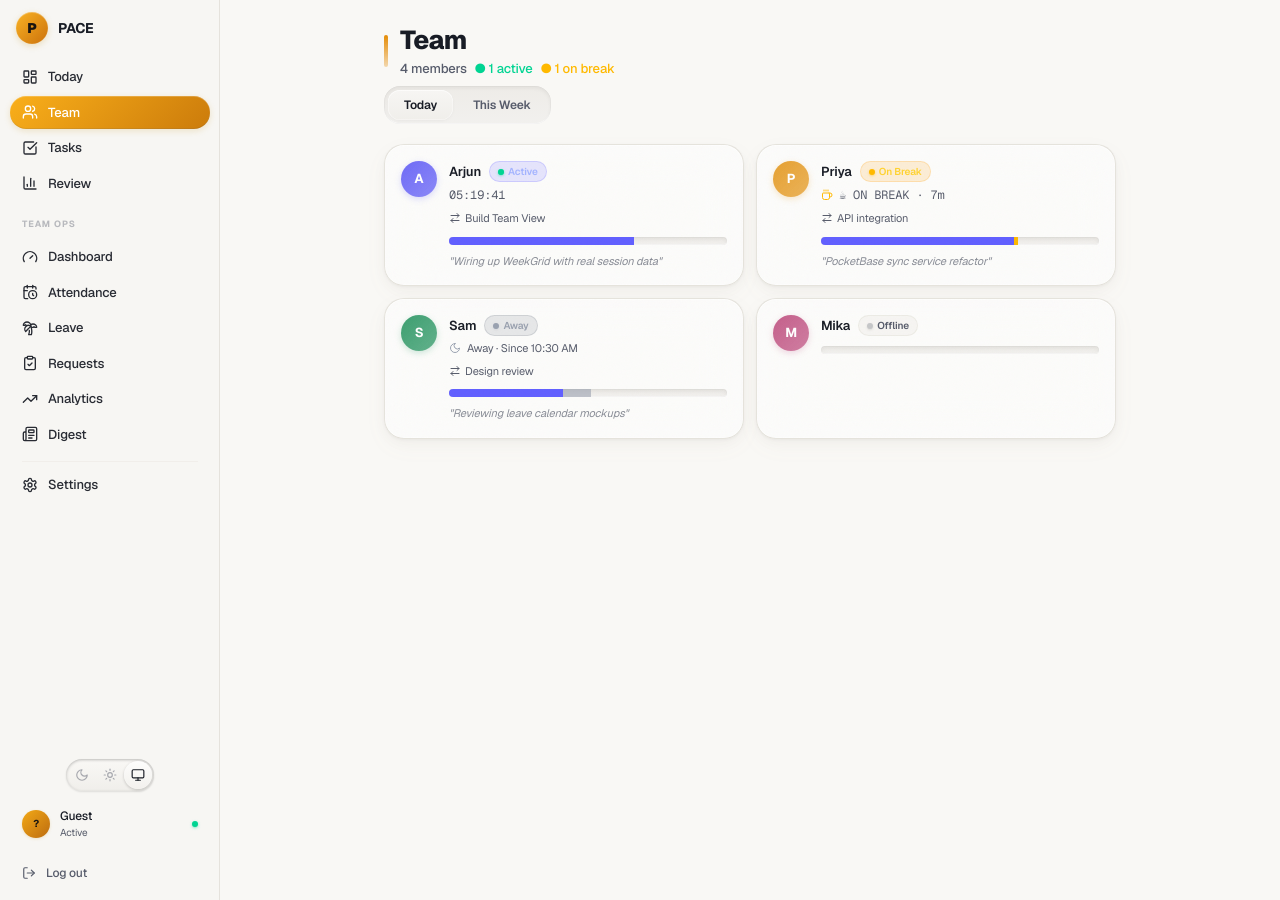
Test case: Sidebar navigation › navigates to / when Today nav item is clicked from another route
The image size is (1280, 900).
Click the link "Today": (52, 76) [22,68,83,85]
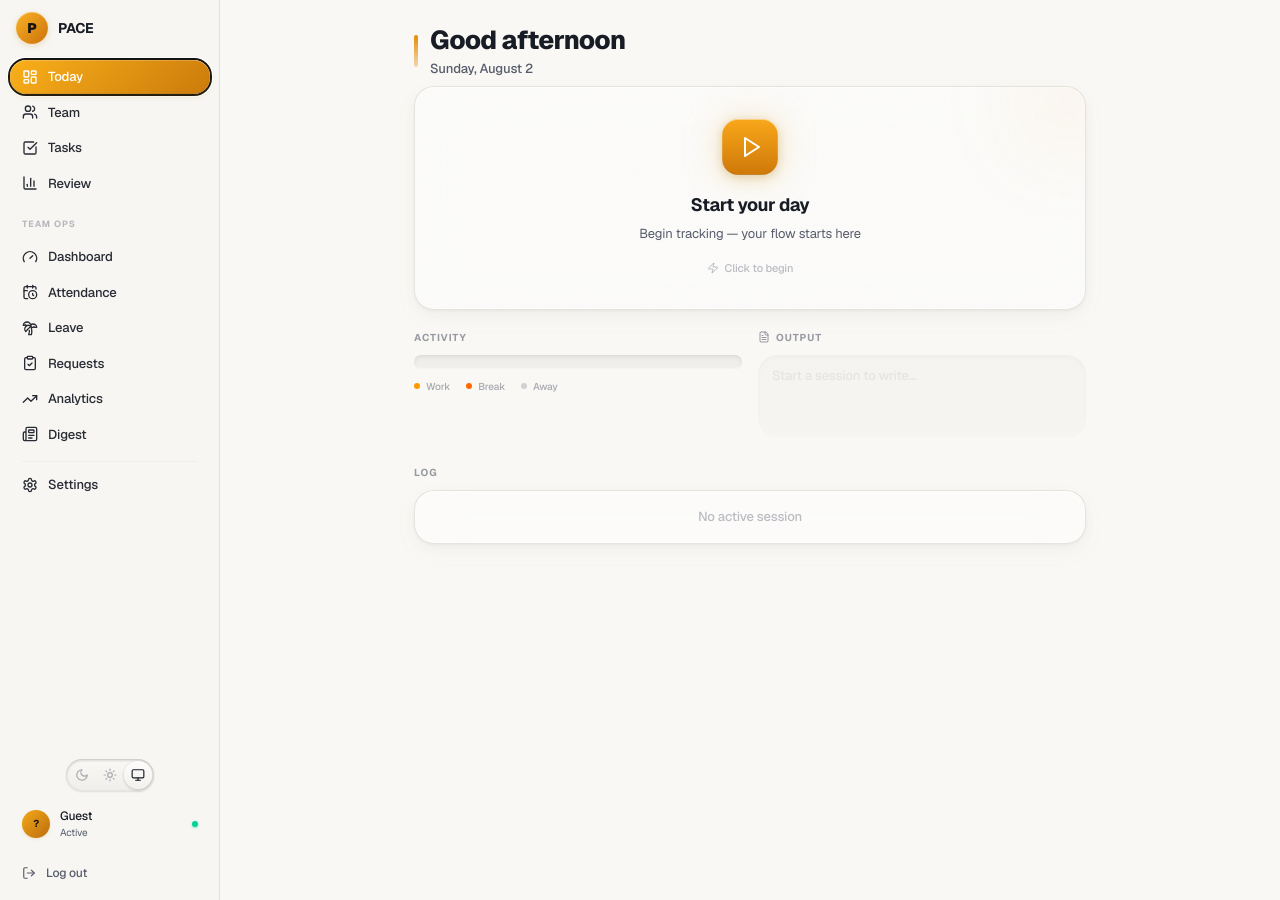
Now the heading "Good afternoon" is shown, box [430,24,625,56]
